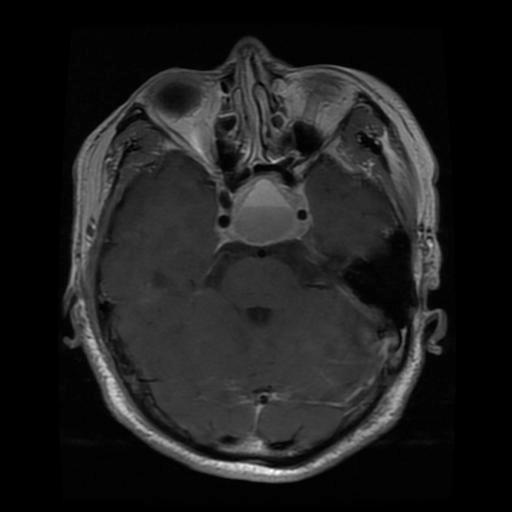Tumour-Pituitary: (208, 177, 318, 251)
